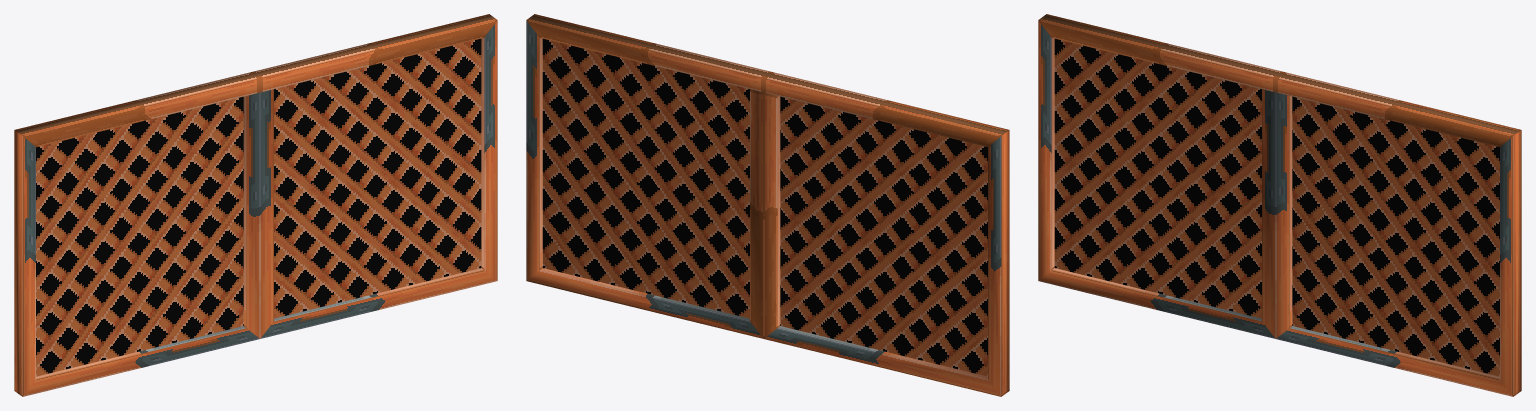
The picture shows the model from 3 angles, left to right: view 1: azimuth 30°, elevation 25°; view 2: azimuth 150°, elevation 25°; view 3: azimuth 330°, elevation 25°; orthographic projection.
Visible parts, largest first — view 1: 3417IMIG20_16; view 2: 3417IMIG20_16; view 3: 3417IMIG20_16.
Part boxes in pixels (<box>): 3417IMIG20_16: <box>14,14,497,396</box>; 3417IMIG20_16: <box>526,14,1009,396</box>; 3417IMIG20_16: <box>1038,14,1521,396</box>.
Bounding box in the file's own units: 1.9 × 0.9976 × 0.0576.
Materials: 2 (2 with a texture image).
